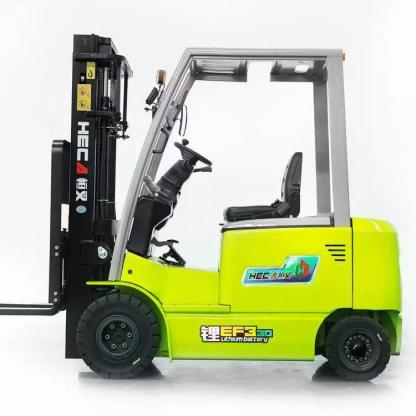forklift: (44, 31, 405, 382)
